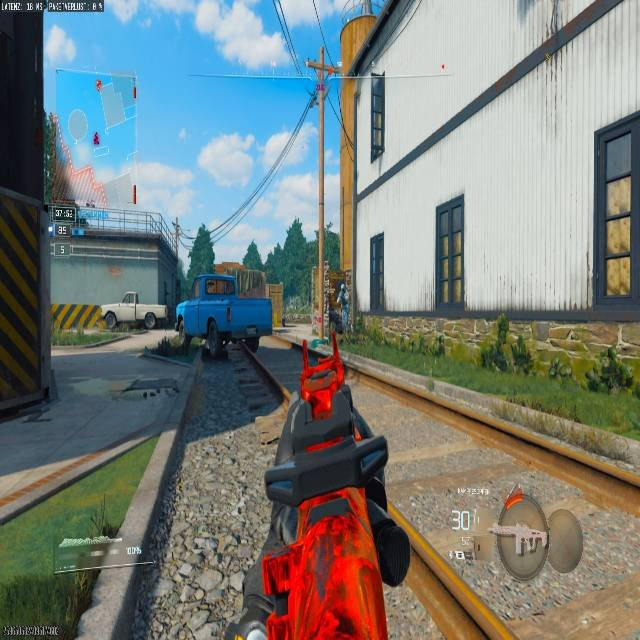player: (326, 274, 352, 338), (337, 280, 349, 329)
